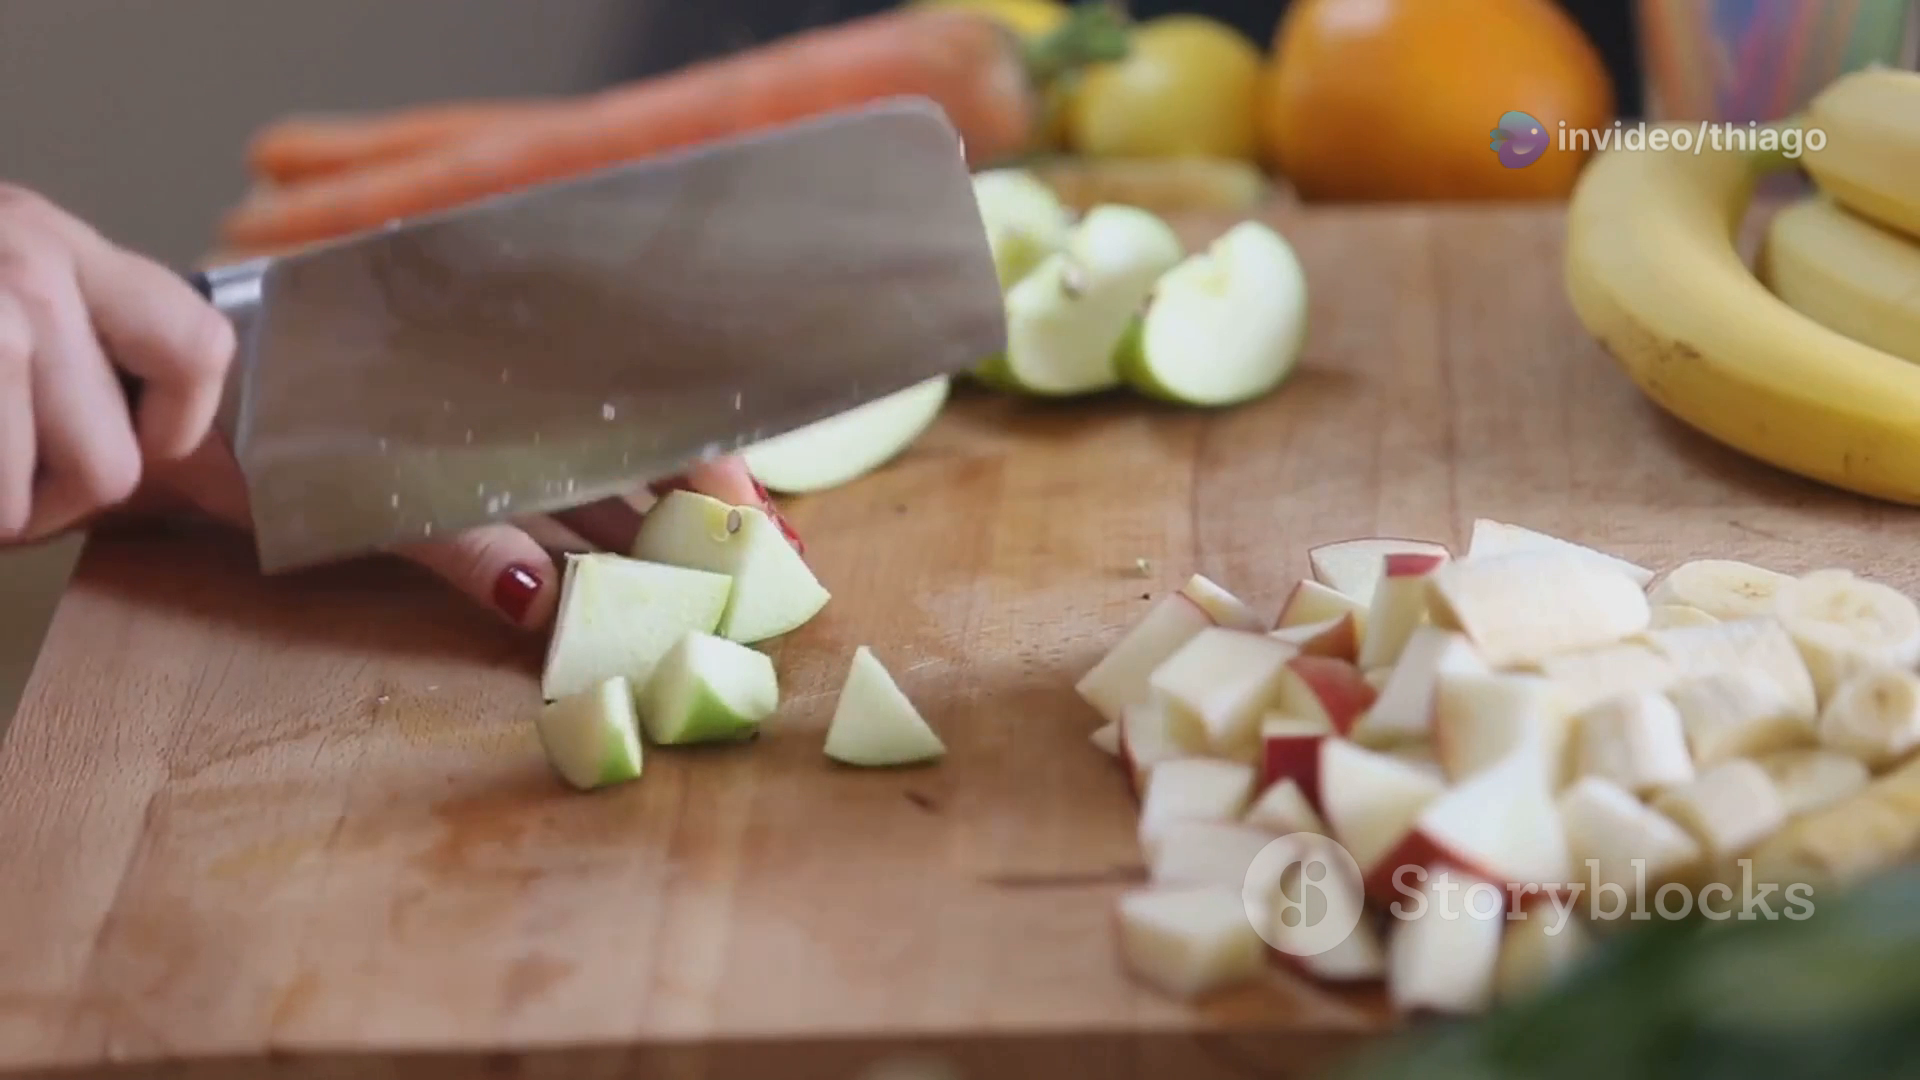cortante: (210, 92, 1010, 575)
